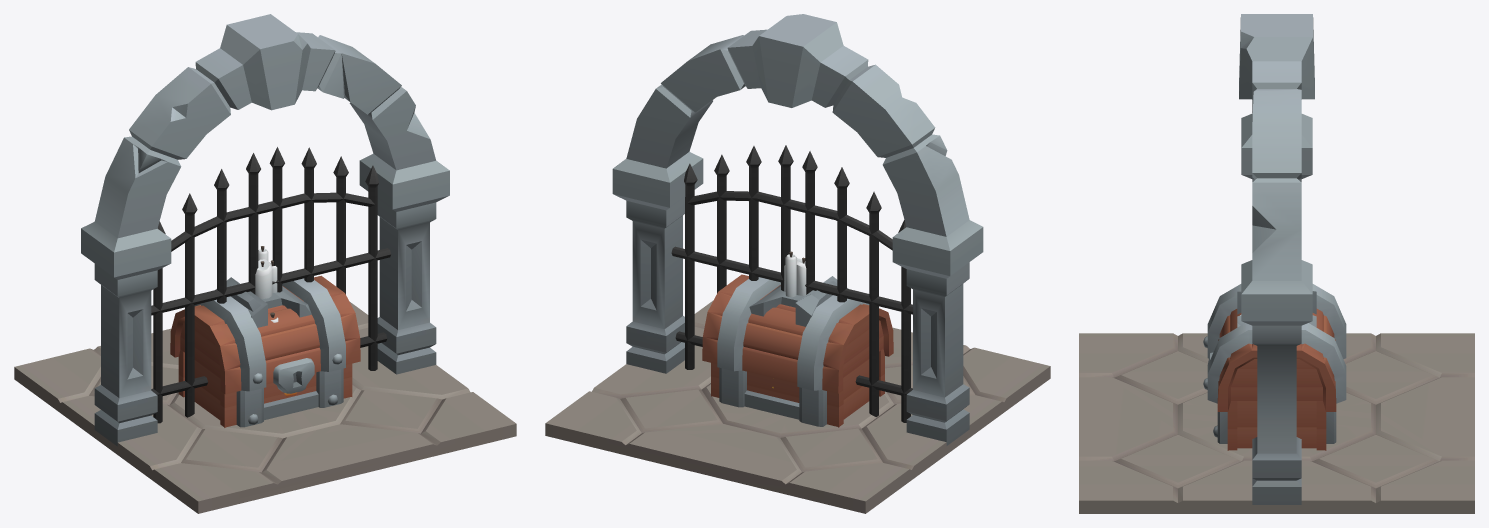
Rendered from vault.glb.
3 renders of one model, left to right at view 1: azimuth 30°, elevation 25°; view 2: azimuth 150°, elevation 25°; view 3: azimuth 270°, elevation 25°, orthographic. The views are drawn at different scales.
Visible parts, largest first — view 1: arch_gate, floor_tile_large, chest_gold, shrine_candles; view 2: arch_gate, floor_tile_large, chest_gold, shrine_candles; view 3: floor_tile_large, arch_gate, chest_gold.
Boxes of the visible parts, x1,y1,x2,y2 form: arch_gate: (81, 14, 449, 446); floor_tile_large: (14, 301, 516, 513); chest_gold: (170, 275, 360, 427); shrine_candles: (215, 246, 318, 420); arch_gate: (612, 14, 983, 445); floor_tile_large: (545, 300, 1050, 513); chest_gold: (702, 274, 893, 427); shrine_candles: (744, 251, 848, 419); floor_tile_large: (1079, 333, 1474, 513); arch_gate: (1239, 14, 1314, 504); chest_gold: (1203, 284, 1346, 450).
Size of the model in its own units: 4.22 by 4.81 by 4.
2 materials, 2 textured.
